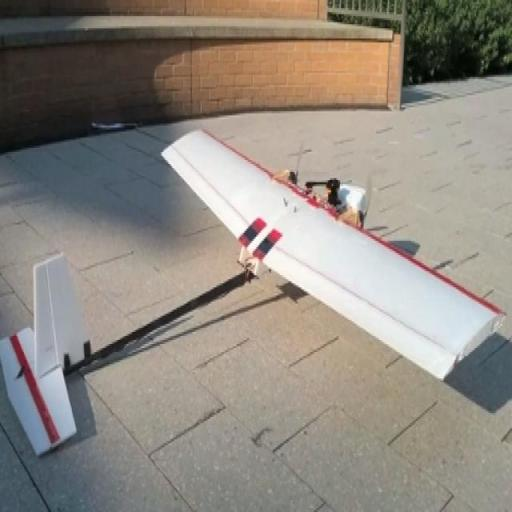uav: (4, 93, 512, 480)
